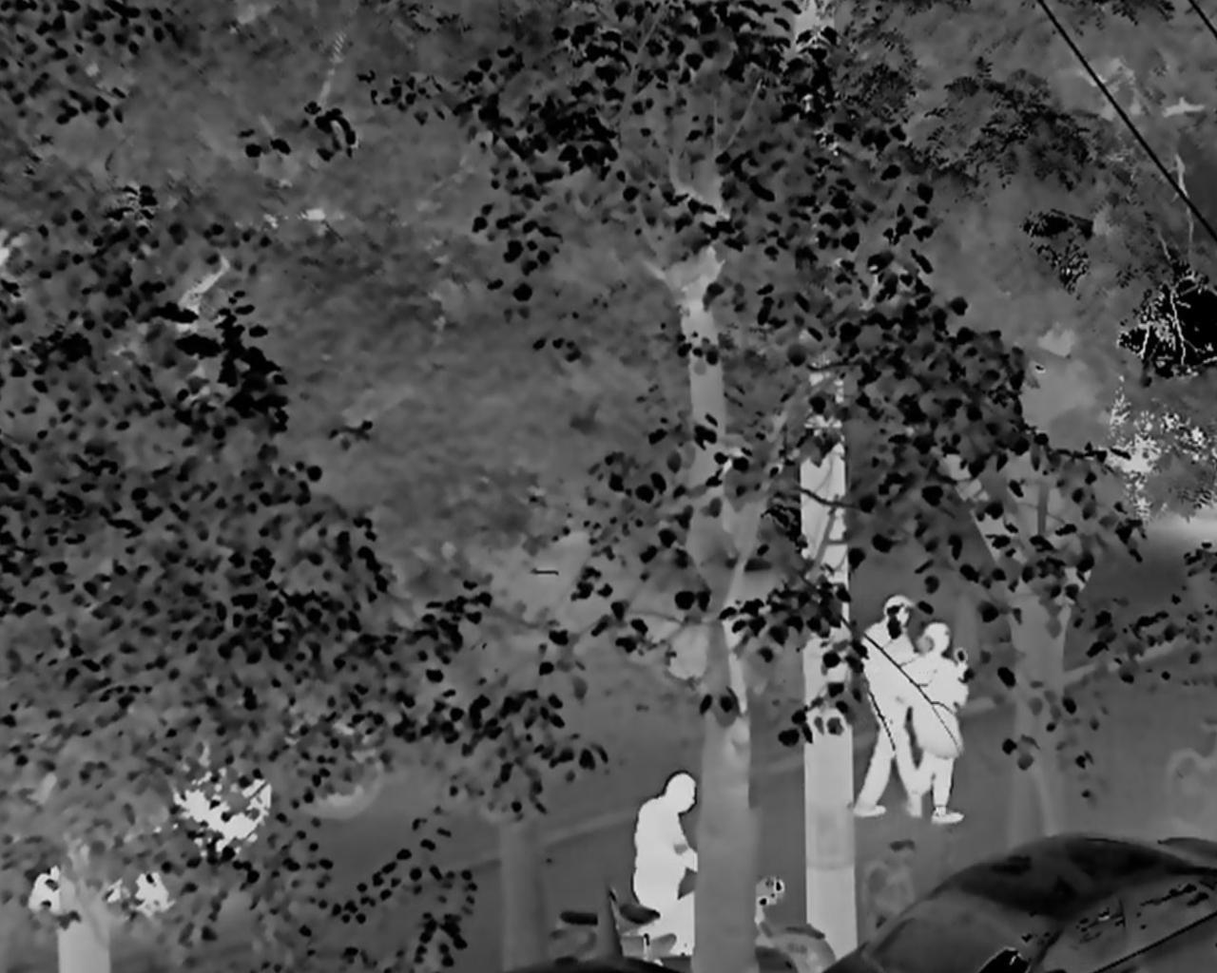person: (854, 592, 920, 818), (898, 623, 969, 826), (631, 769, 699, 911)
